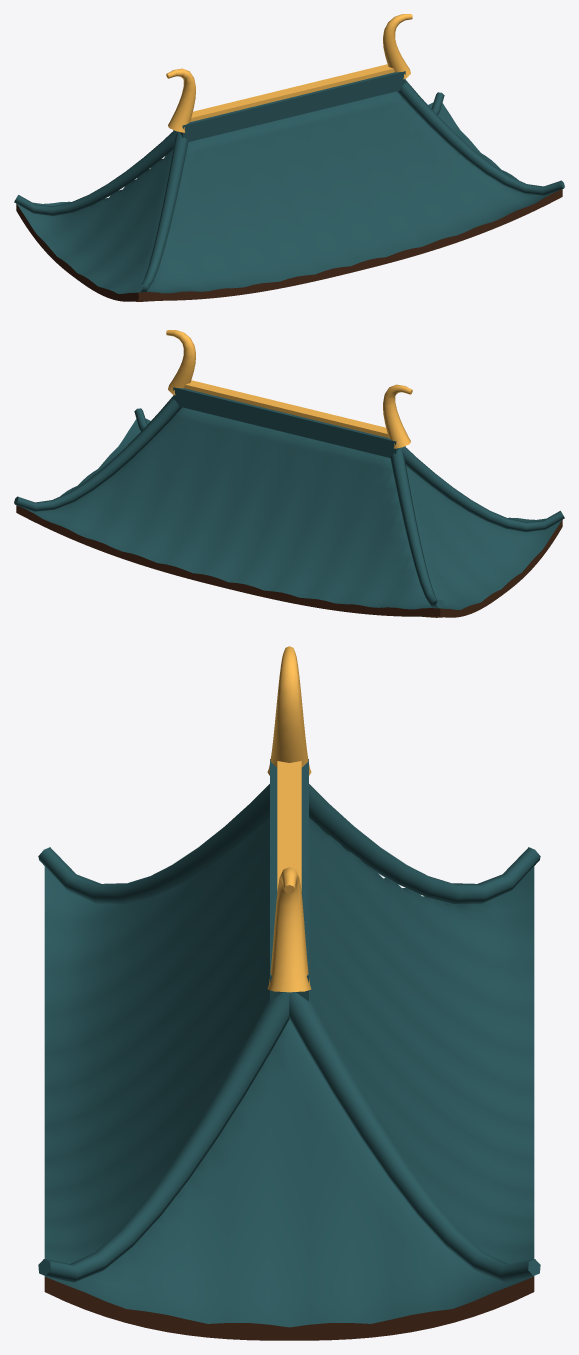
The model's file is roof_hip.glb.
The picture shows the model from 3 angles, top to bottom: view 1: azimuth 30°, elevation 25°; view 2: azimuth 150°, elevation 25°; view 3: azimuth 270°, elevation 25°; orthographic projection. The views are drawn at different scales.
Visible parts, largest first — view 1: roof_hip; view 2: roof_hip; view 3: roof_hip.
Part boxes in pixels (x1,y1,x2,y2): roof_hip: [14, 14, 564, 301]; roof_hip: [14, 330, 564, 617]; roof_hip: [38, 646, 540, 1340].
Bounding box in the file's own units: 4.05 × 1.68 × 2.05.
